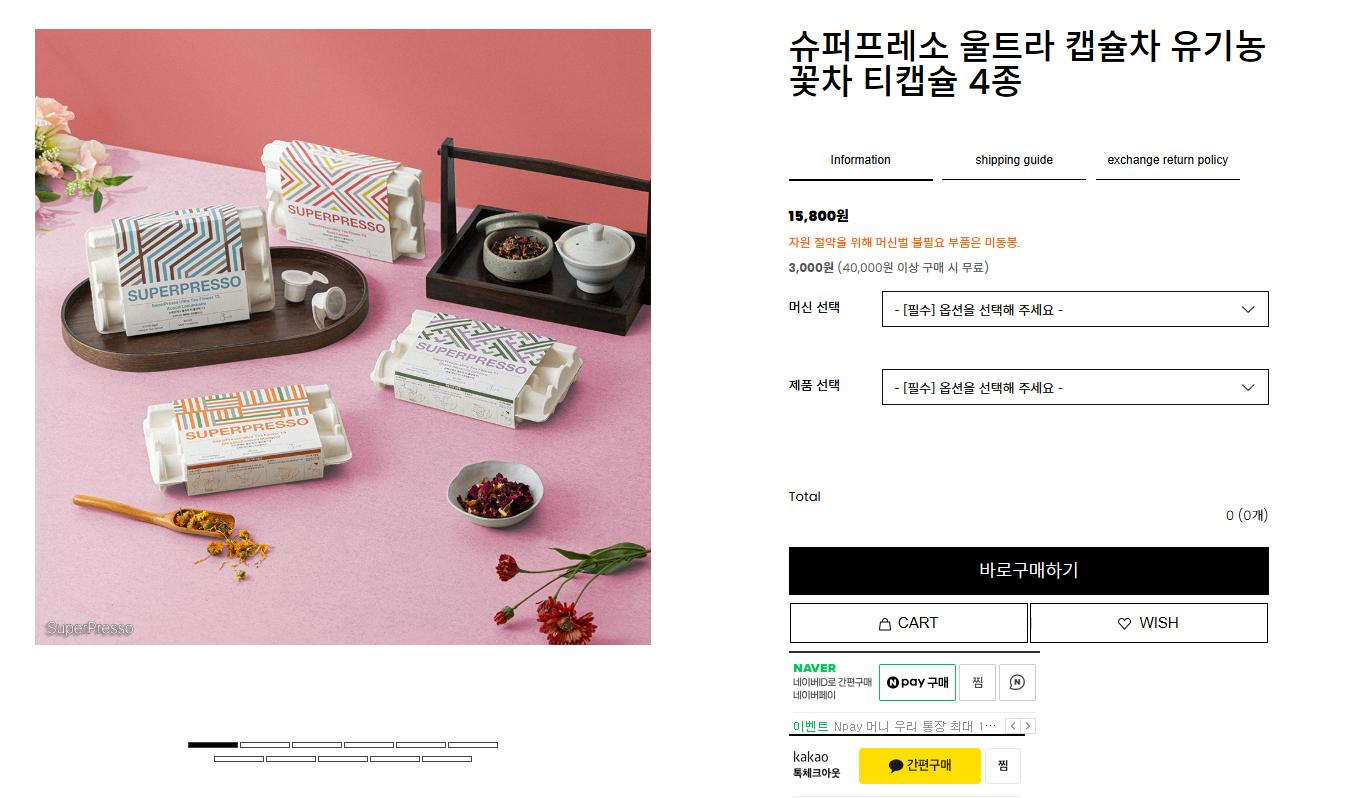button: (789, 544, 1268, 594), (788, 606, 1028, 643), (1028, 607, 1274, 641), (854, 744, 986, 789), (793, 144, 937, 182), (1098, 146, 1249, 179), (949, 149, 1088, 181), (883, 664, 959, 701), (997, 669, 1050, 707), (989, 748, 1031, 786), (966, 667, 996, 701), (1002, 723, 1038, 732)
checkbox: (888, 369, 1267, 407), (881, 291, 1268, 327)
